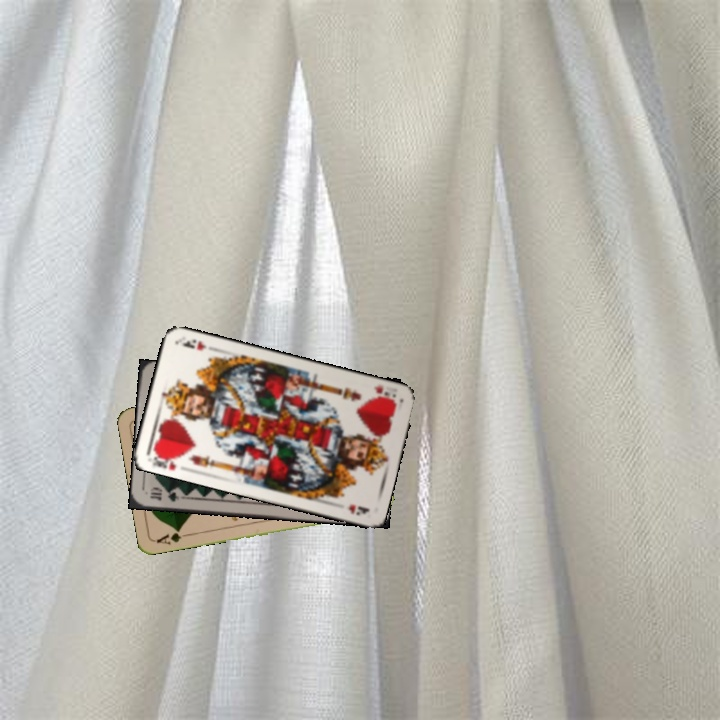G10: (146, 485, 182, 504)
GA: (152, 525, 192, 547)
HK: (148, 448, 184, 473), (367, 381, 398, 405)
